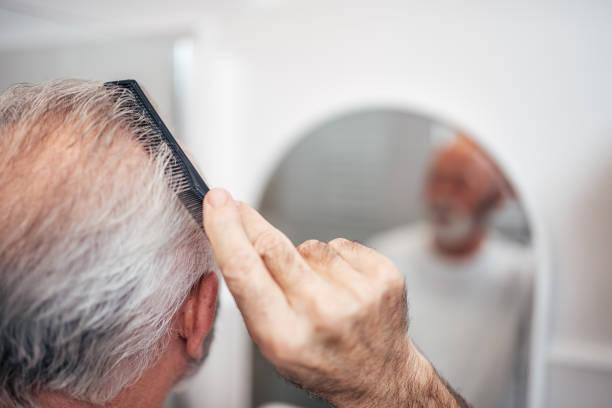low hair density: (12, 115, 71, 222)
